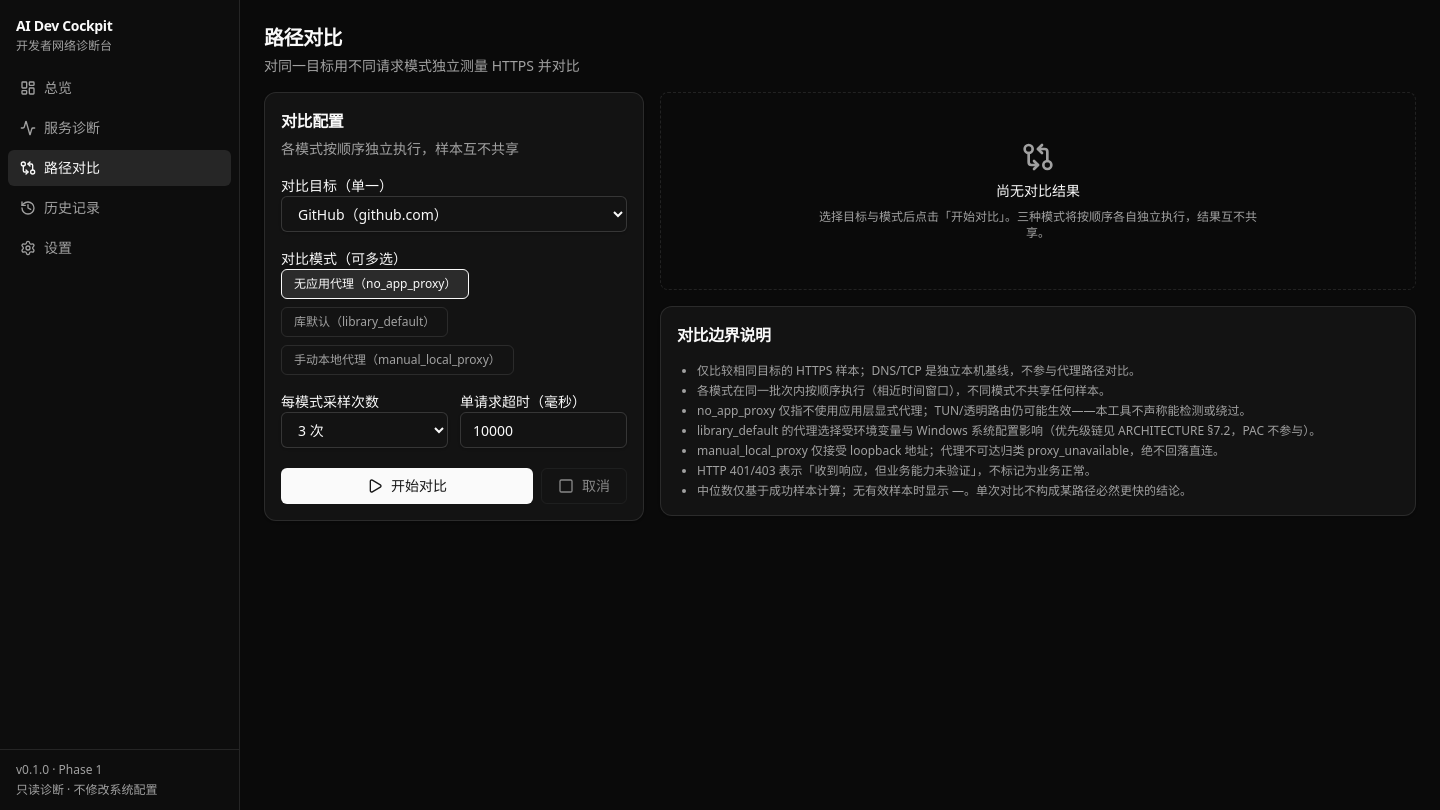
路径对比页（真实模式） › 手动代理模式需要合法地址
Click the button "手动本地代理（manual_local_proxy）".
click(397, 360)  # box 281,345 -> 514,375
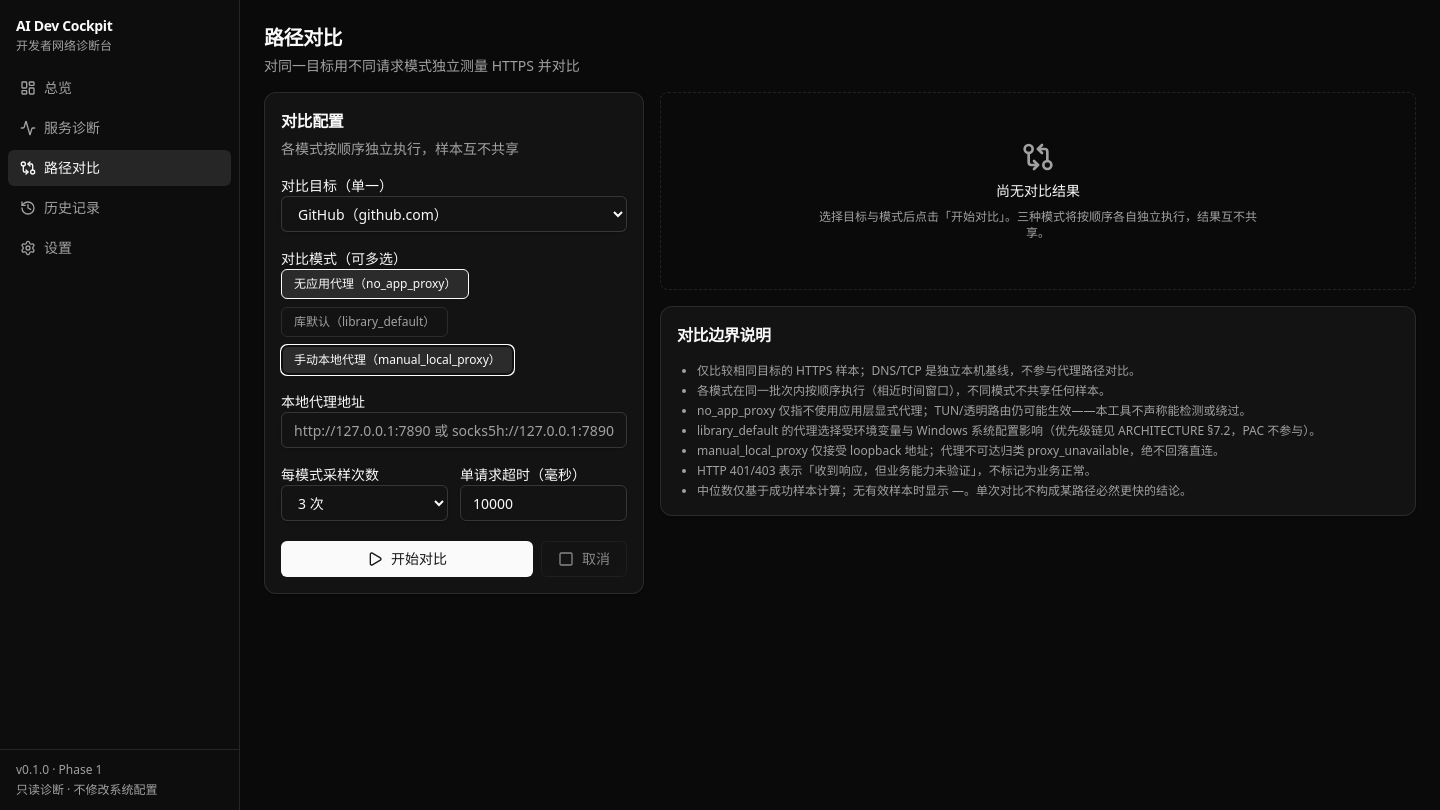
Type "http://proxy.example.com:8080" into the field labelled "本地代理地址".
click(454, 430); type("http://proxy.example.com:8080")  # box 281,412 -> 627,448
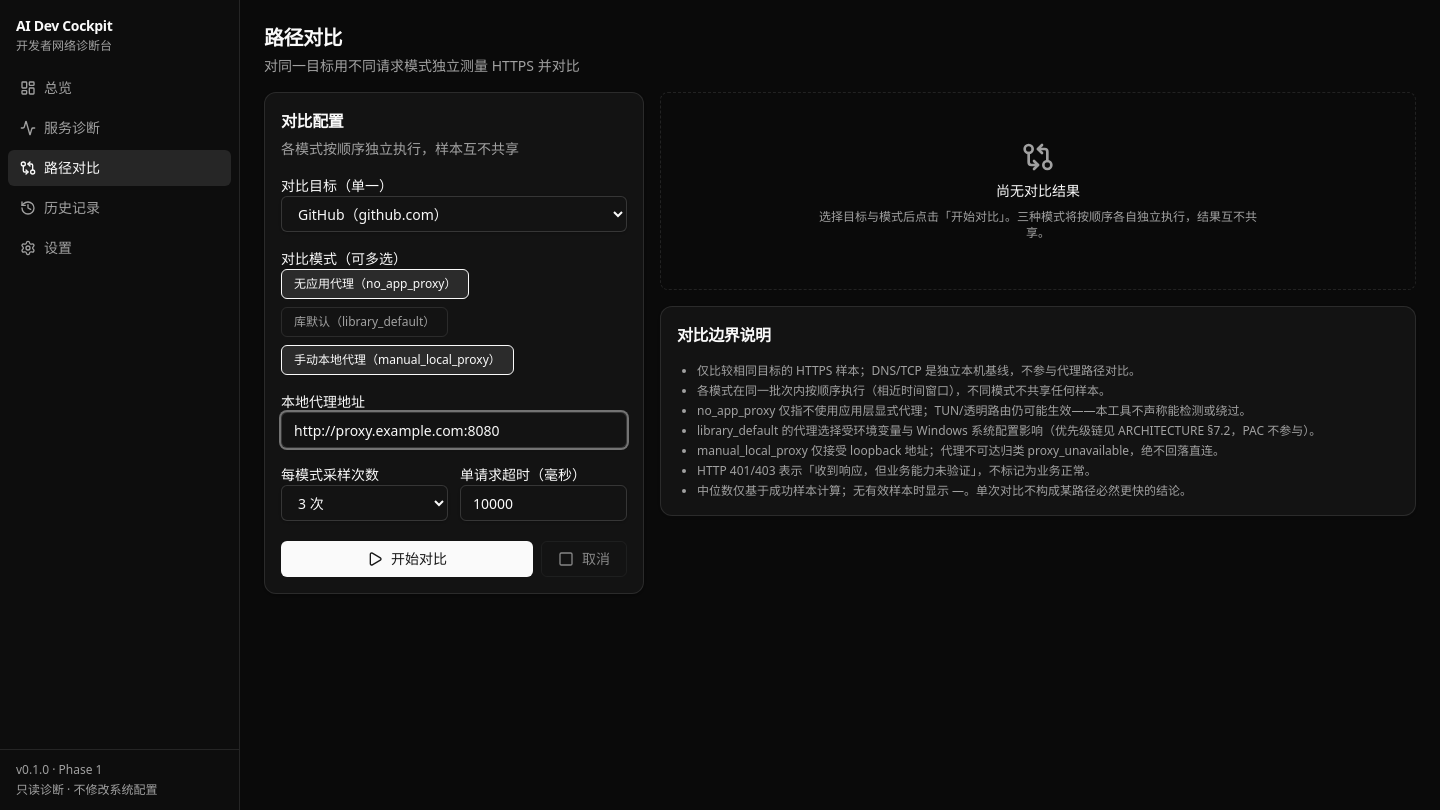
Click the button "开始对比".
click(407, 559)  # box 281,541 -> 533,577
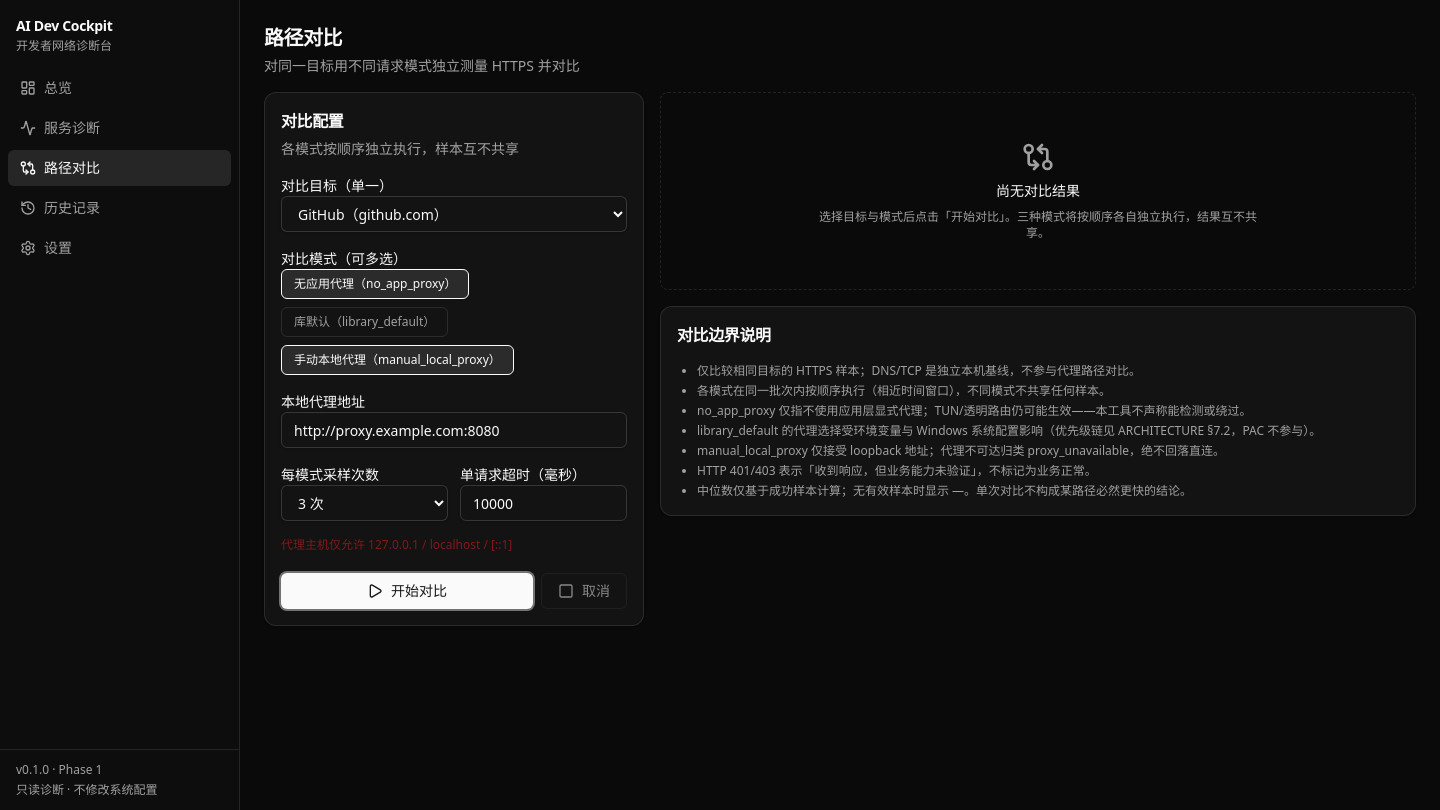
Expected: the text "代理主机仅允许 127.0.0.1 / localhost / [::1]" is shown, 281,536 -> 512,553
